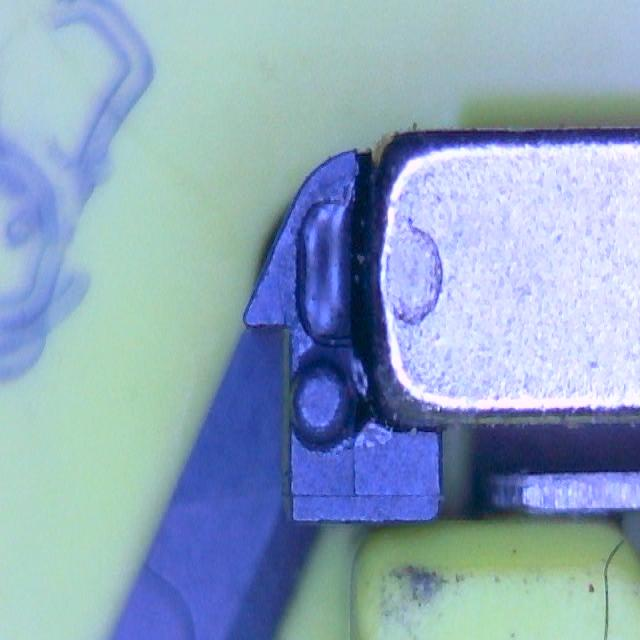over: (297, 193, 365, 349)
